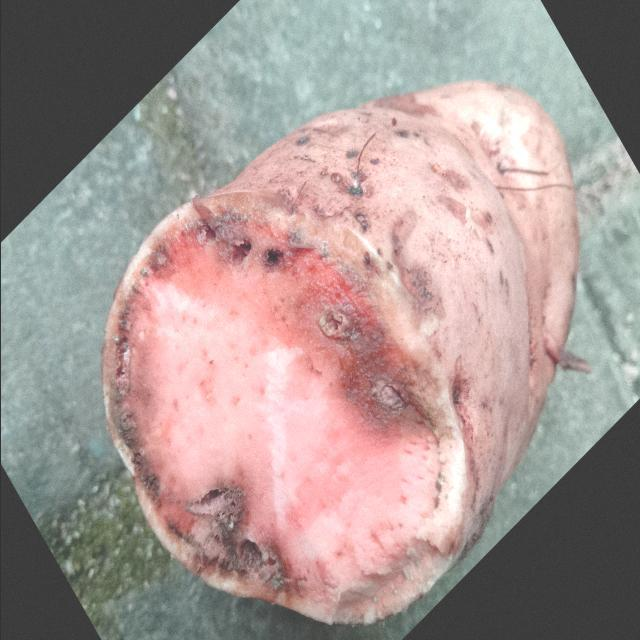Sick Sweet Potato_Tuber Rot: (102, 193, 472, 623)
